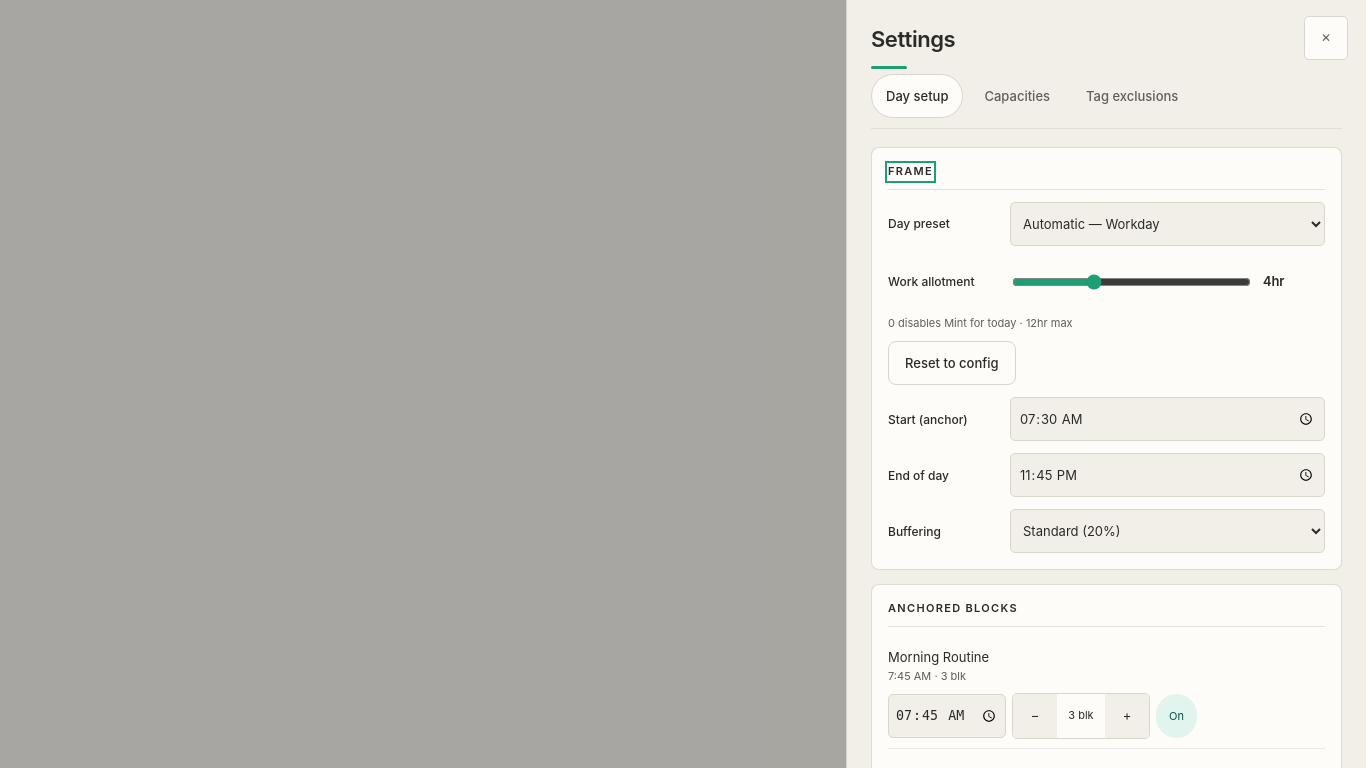
Test: T18g Day Setup semantics › shows automatic preset and config-prefilled Work allotment including zero/reset
The image size is (1366, 768).
Check: the dropdown labelled "Day preset" shows "Automatic — Workday", box [1010,202,1325,246]
Set the slider labelled "Work allotment" to "0" at point(1020, 282), box [1012,260,1251,304]
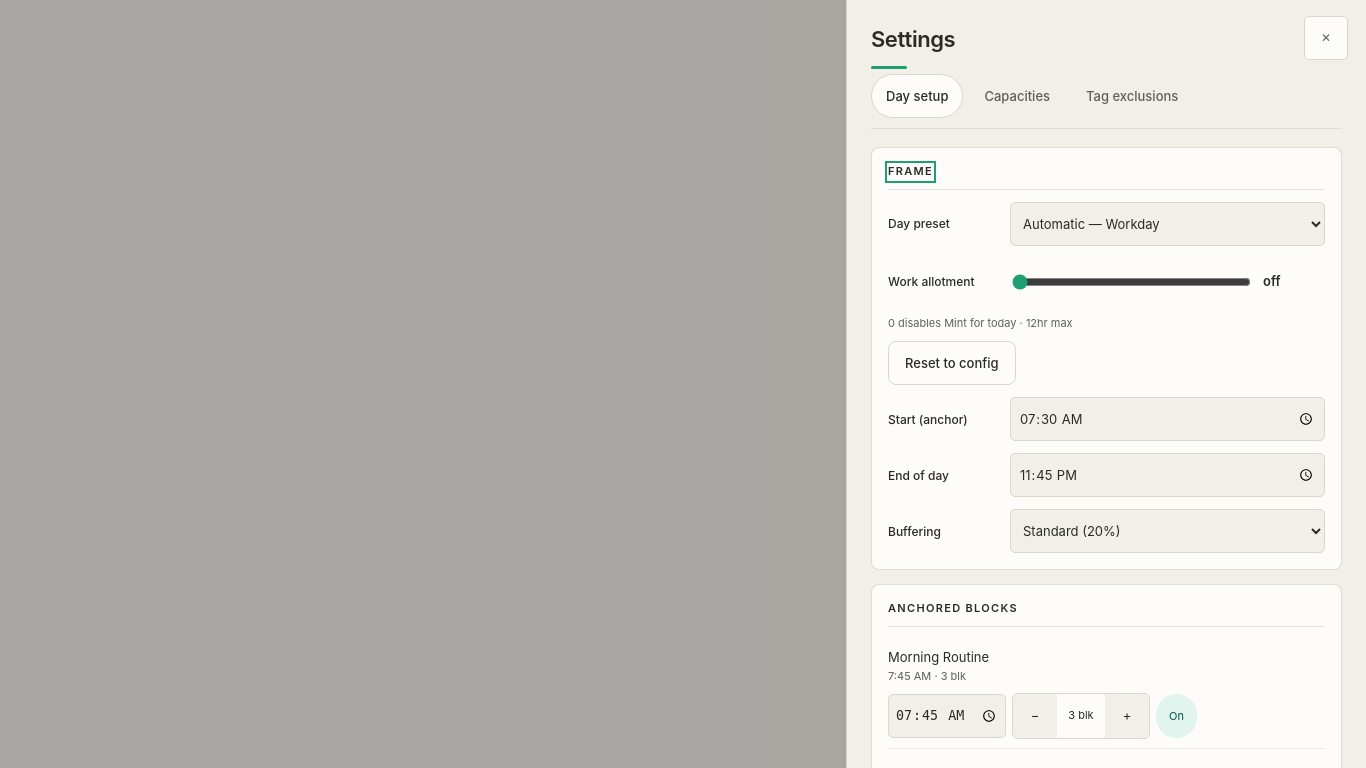
Click the button "Reset to config" at point(952, 363), box [888,341,1016,385]
(page scrolled)
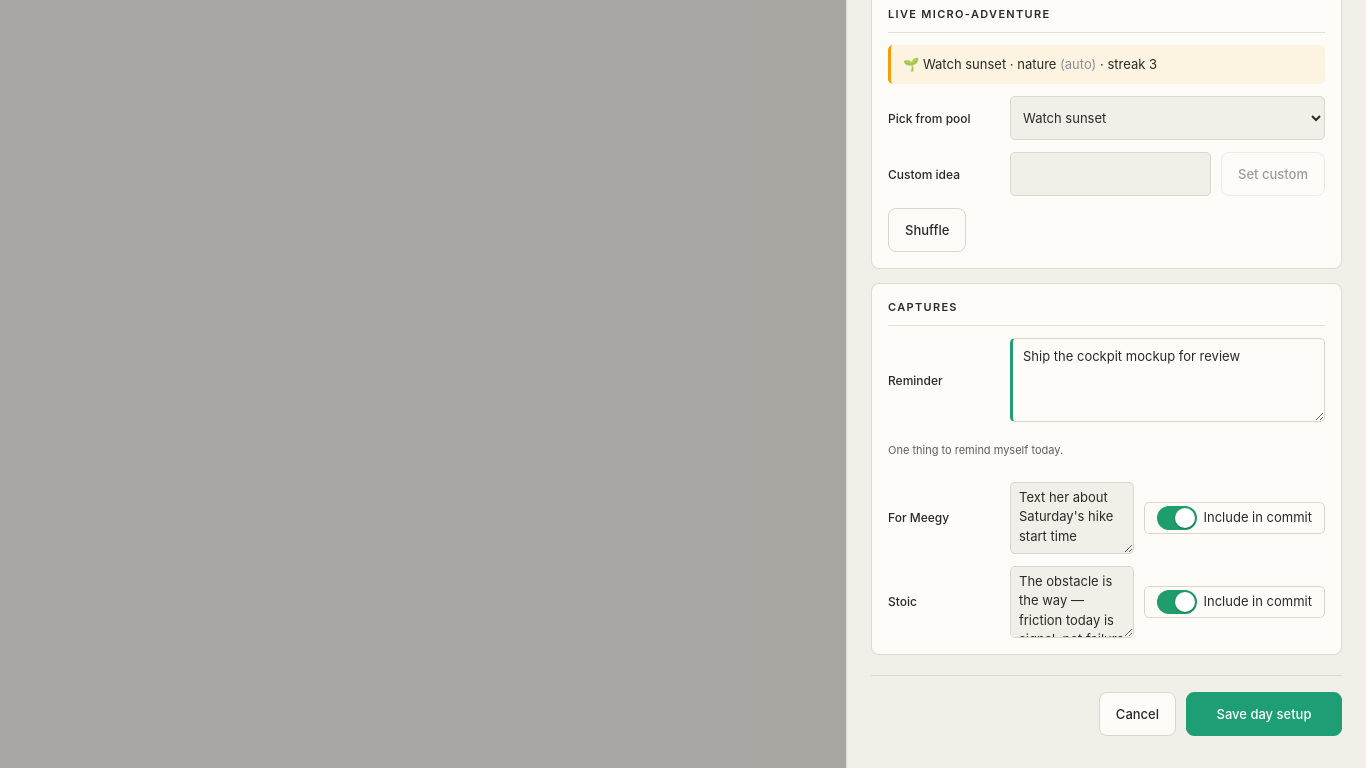
Check: the button "Save day setup" is shown, box [1186,692,1342,736]
